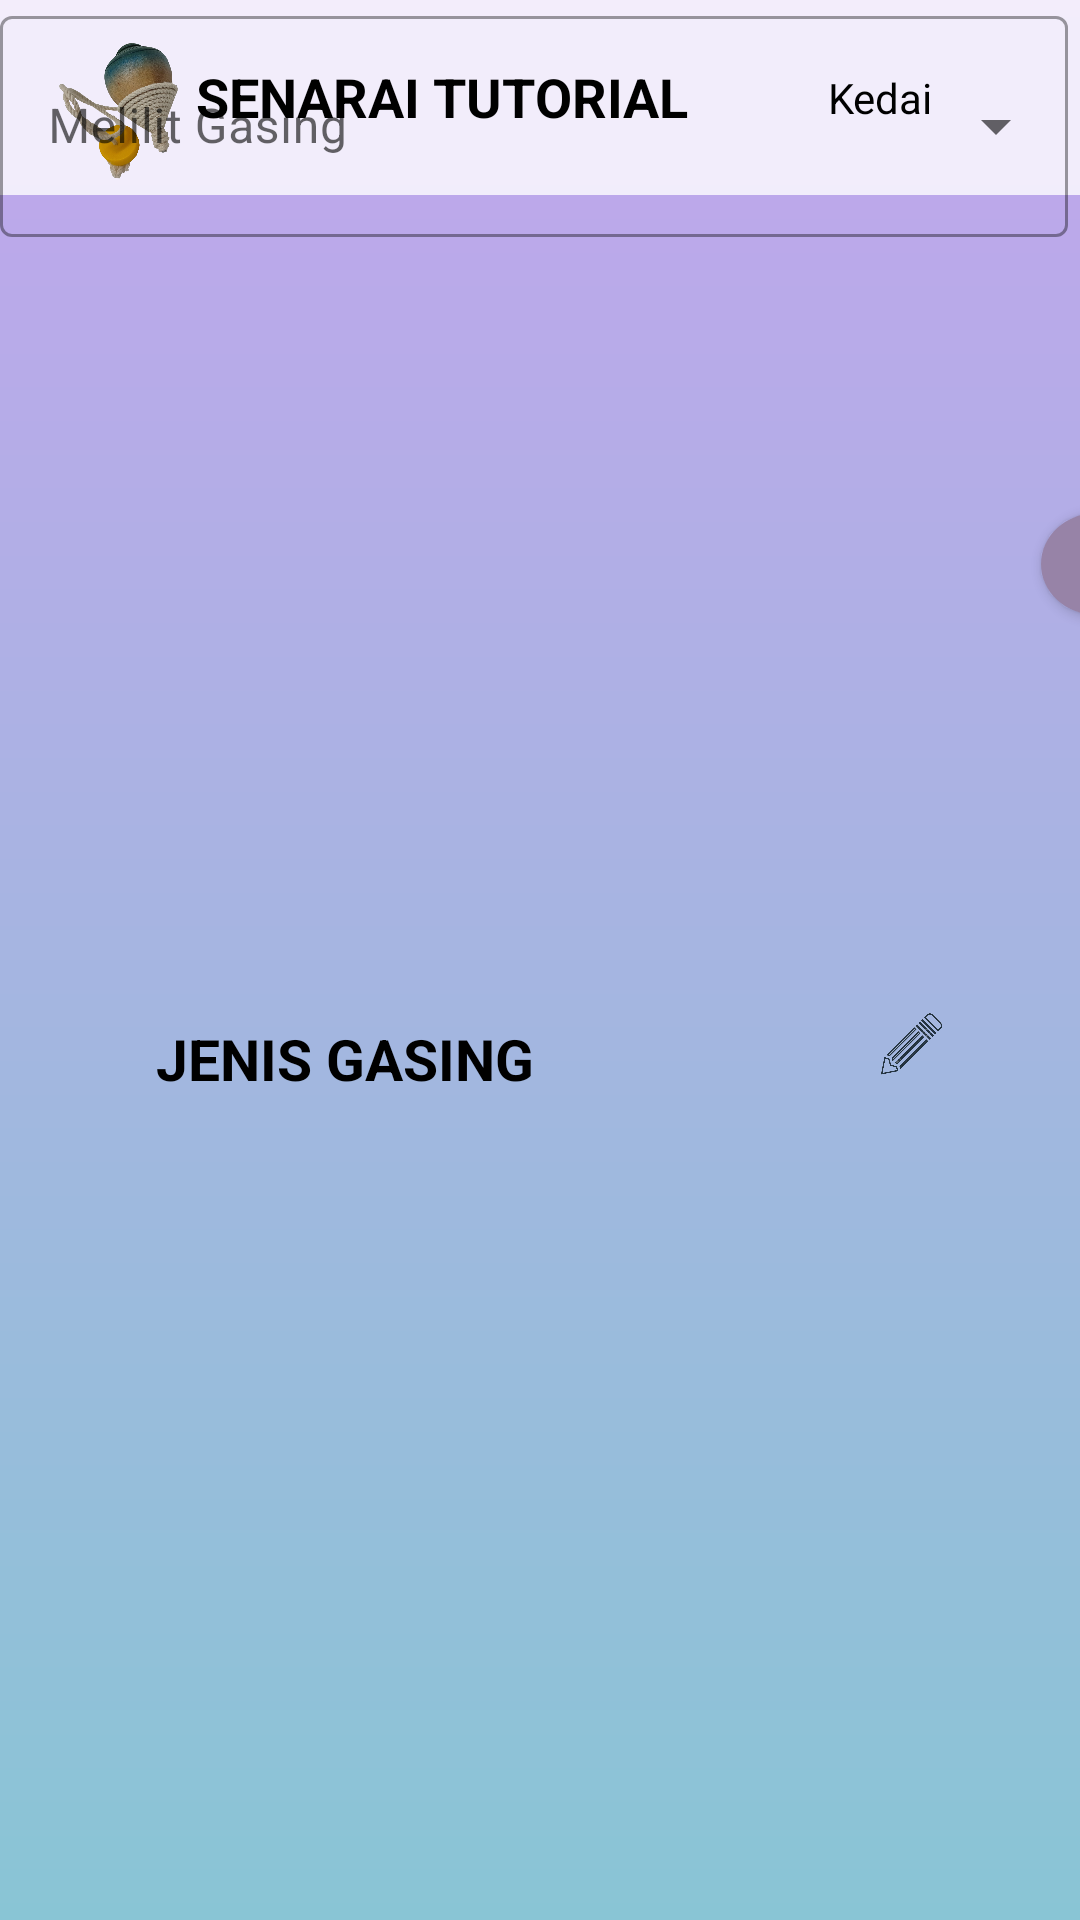

Screen size 1080×1920. Icon name, then its box in pixels as (x1, y1, x2, y2):
pencill: (881, 1013, 942, 1075)
